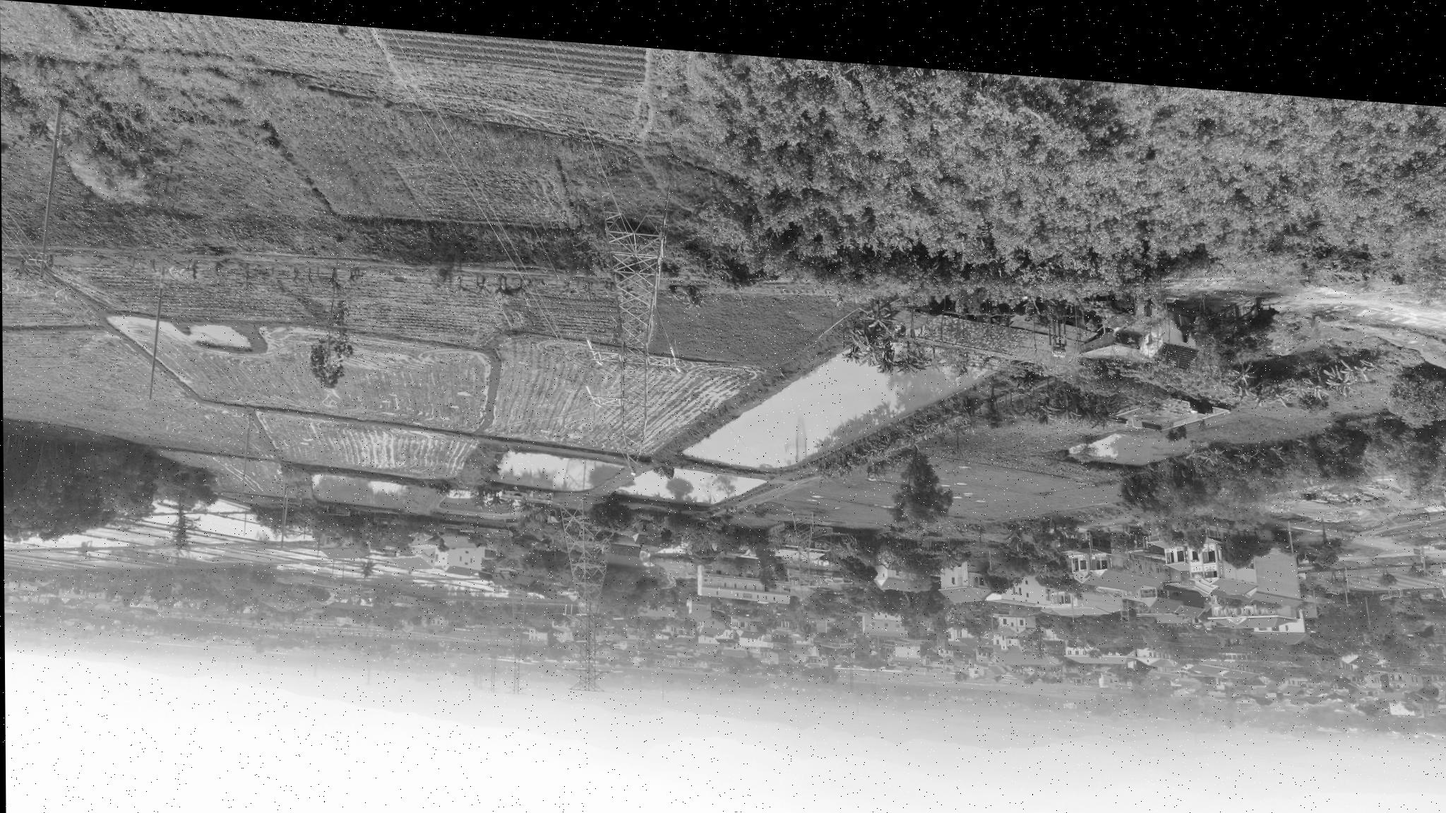tower: (597, 199, 686, 467), (556, 486, 622, 704)
